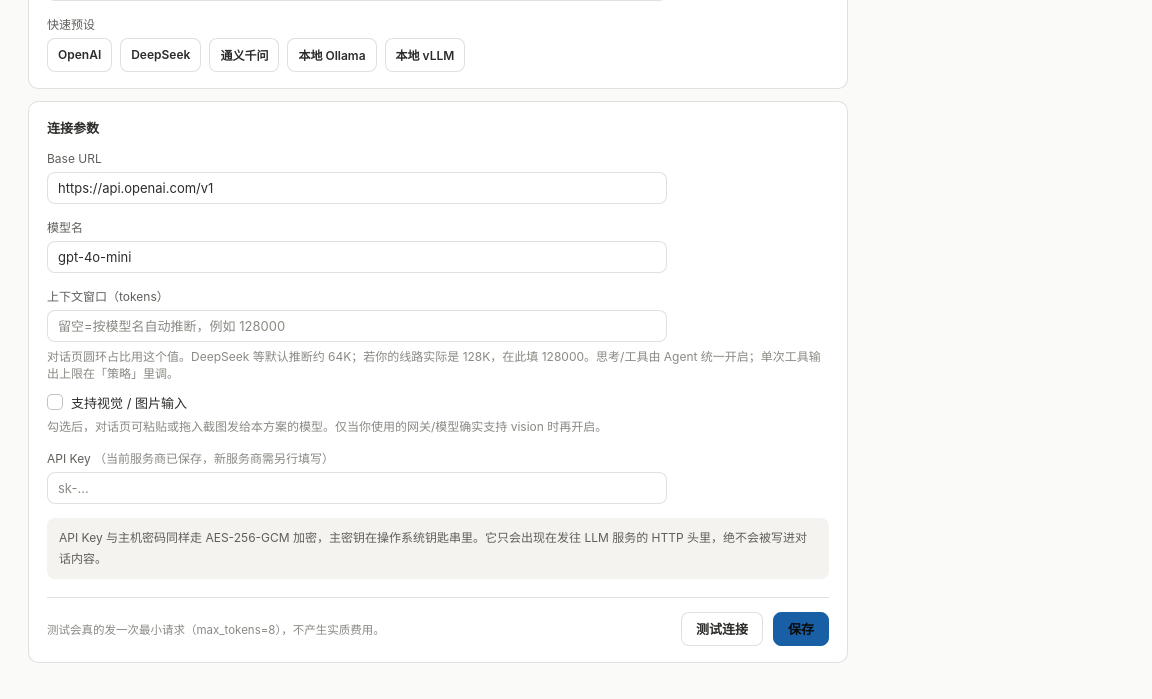
it: SettingsPanel 测试连接 › 后端抛异常时渲染成失败结果，而不是整体崩掉
(page scrolled)
Click the button "测试连接".
click(722, 629)  # box [681,612,763,646]
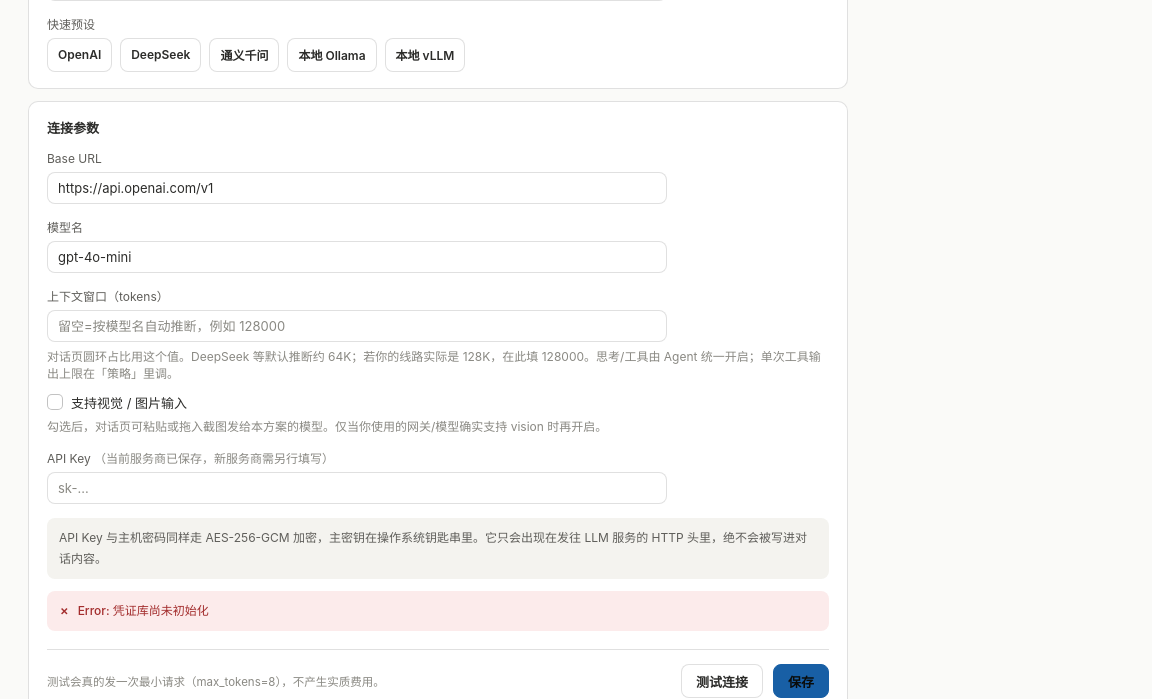
Check: the element with class "test-result" shows "凭证库尚未初始化", box [78,603,209,618]
